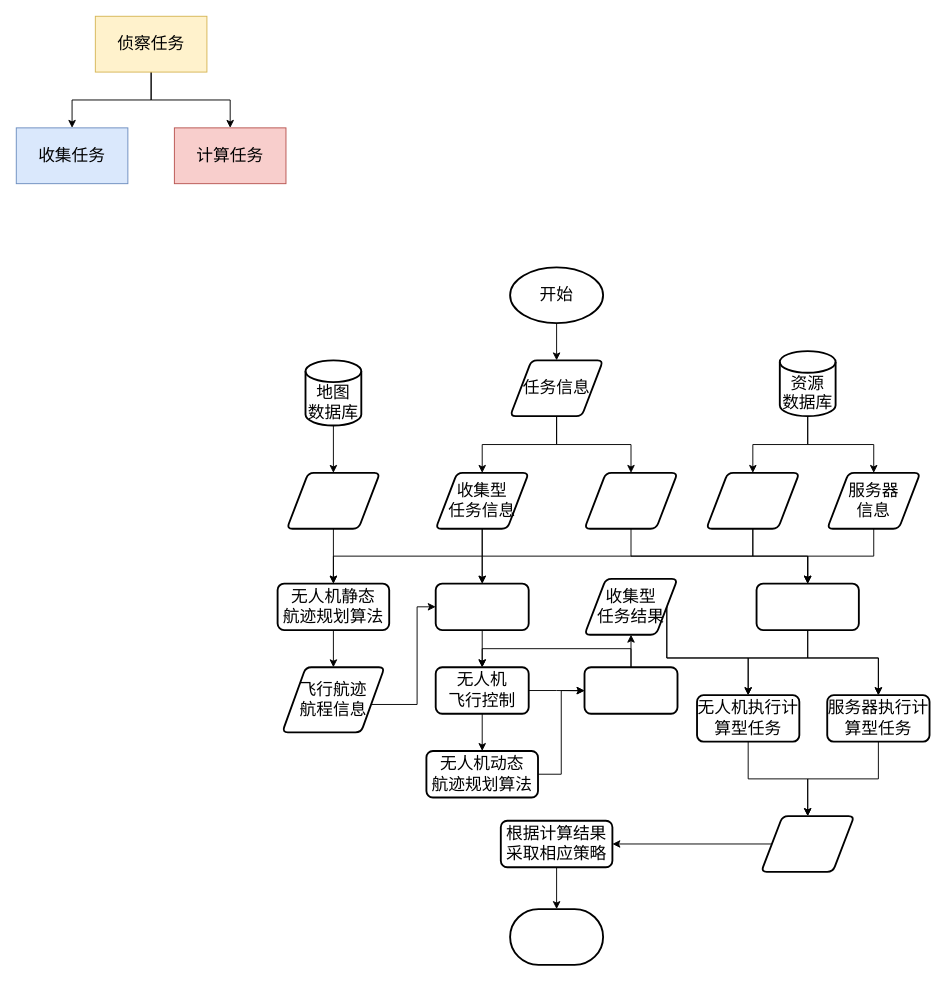
Some shapes in this 947 by 982 pixel diagram are drawn without their labels. The centre of each missing label's shape, as x and y in pixels:
"任务计算资源调度算法" belongs at point 807,606.
"任务调度 算法" belongs at point 481,606.
"到达任务点 收集信息" belongs at point 630,690.
"地图信息" belongs at point 333,500.
"无人机 信息" belongs at point 752,500.
"结束" belongs at point 556,936.
"计算型 任务信息" belongs at point 630,500.
"计算型 任务结果" belongs at point 807,843.
